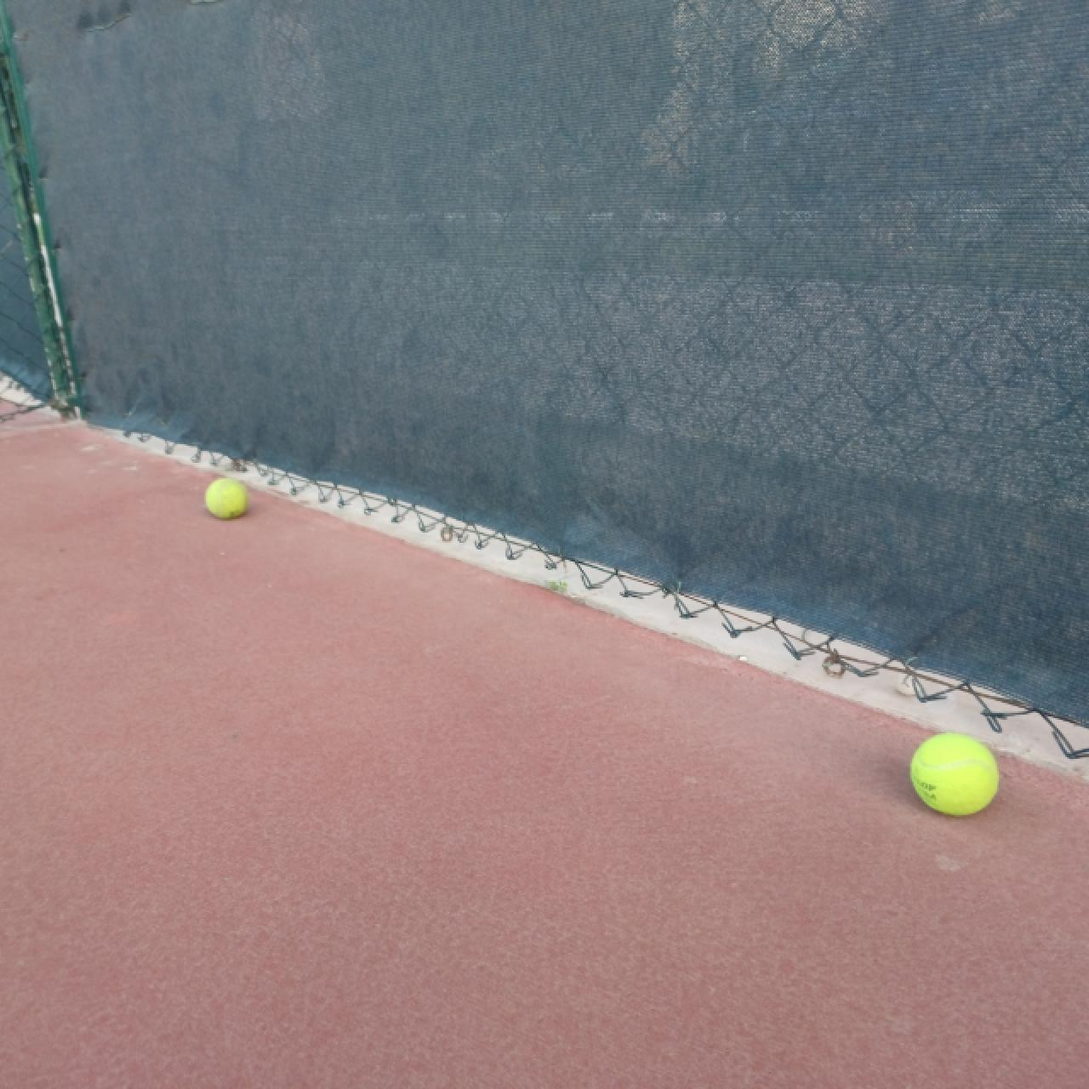tennis-ball: (908, 732, 999, 816), (204, 476, 248, 519)
